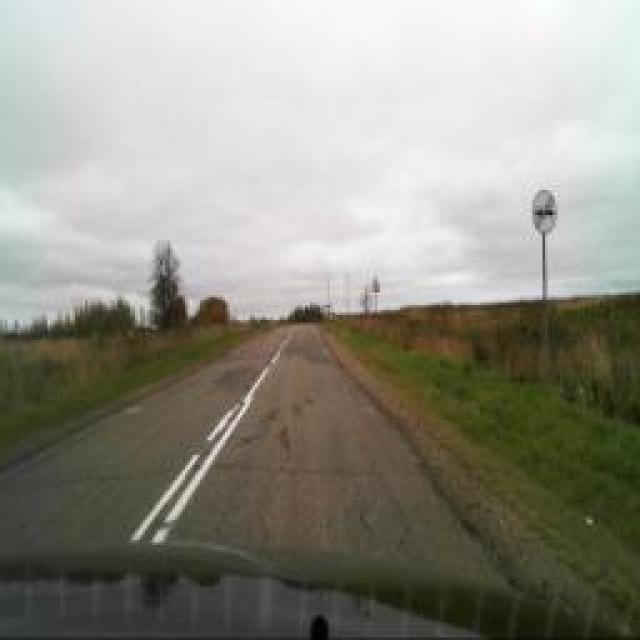sign: (371, 275, 381, 293)
